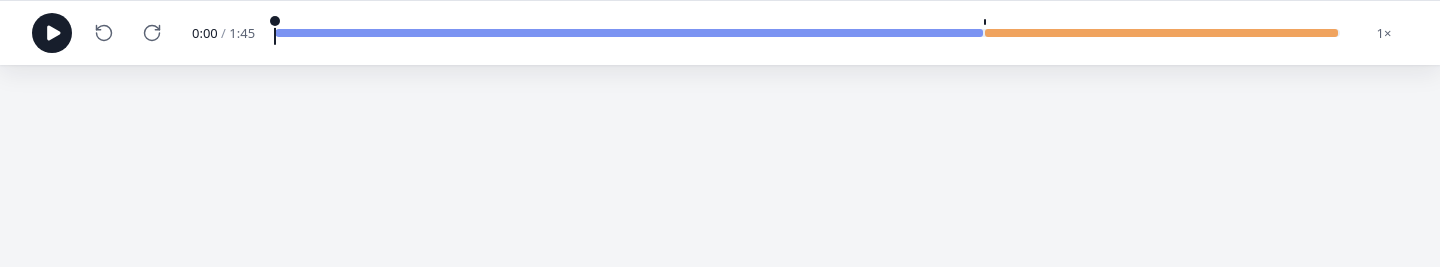
Test: PlayerBar › changes the playback speed
This screenshot has width=1440, height=267.
Click the button named "Playback speed: 1×": (1384,33) [1360,17,1408,49]
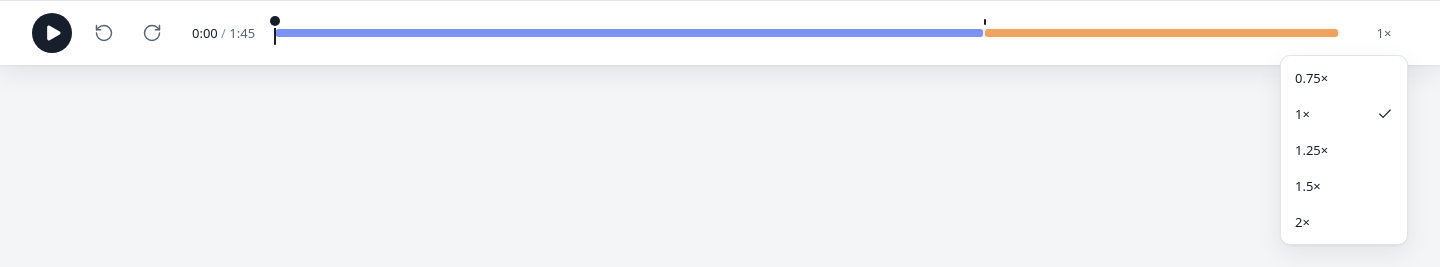
Click the menu item "1.5×": (1308,186) [1295,177,1321,195]
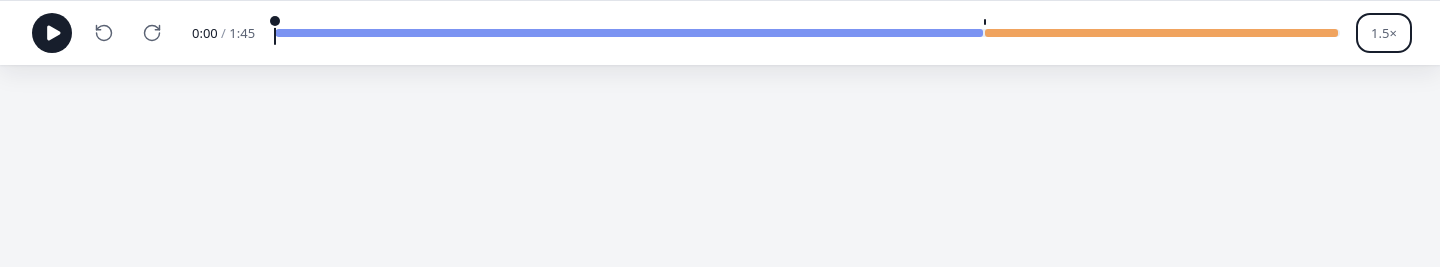
Expected: the button named "Playback speed: 1.5×" is shown, [1360,17,1408,49]
